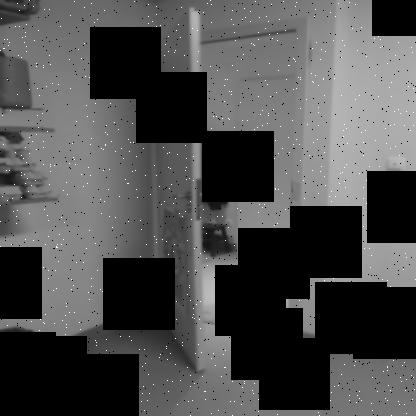Porte: (149, 4, 312, 377), (230, 76, 301, 262)
